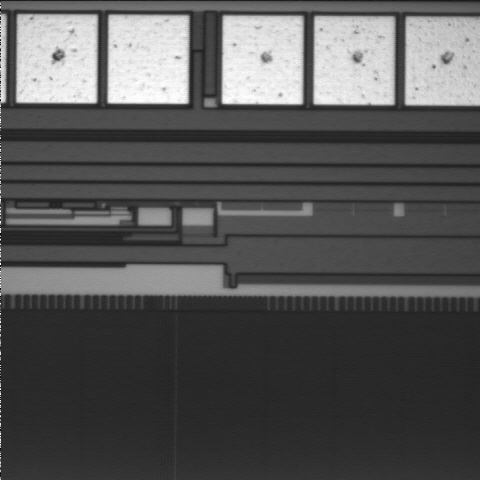pad: (108, 15, 189, 104), (222, 16, 303, 104), (314, 16, 394, 105), (17, 15, 97, 103)
